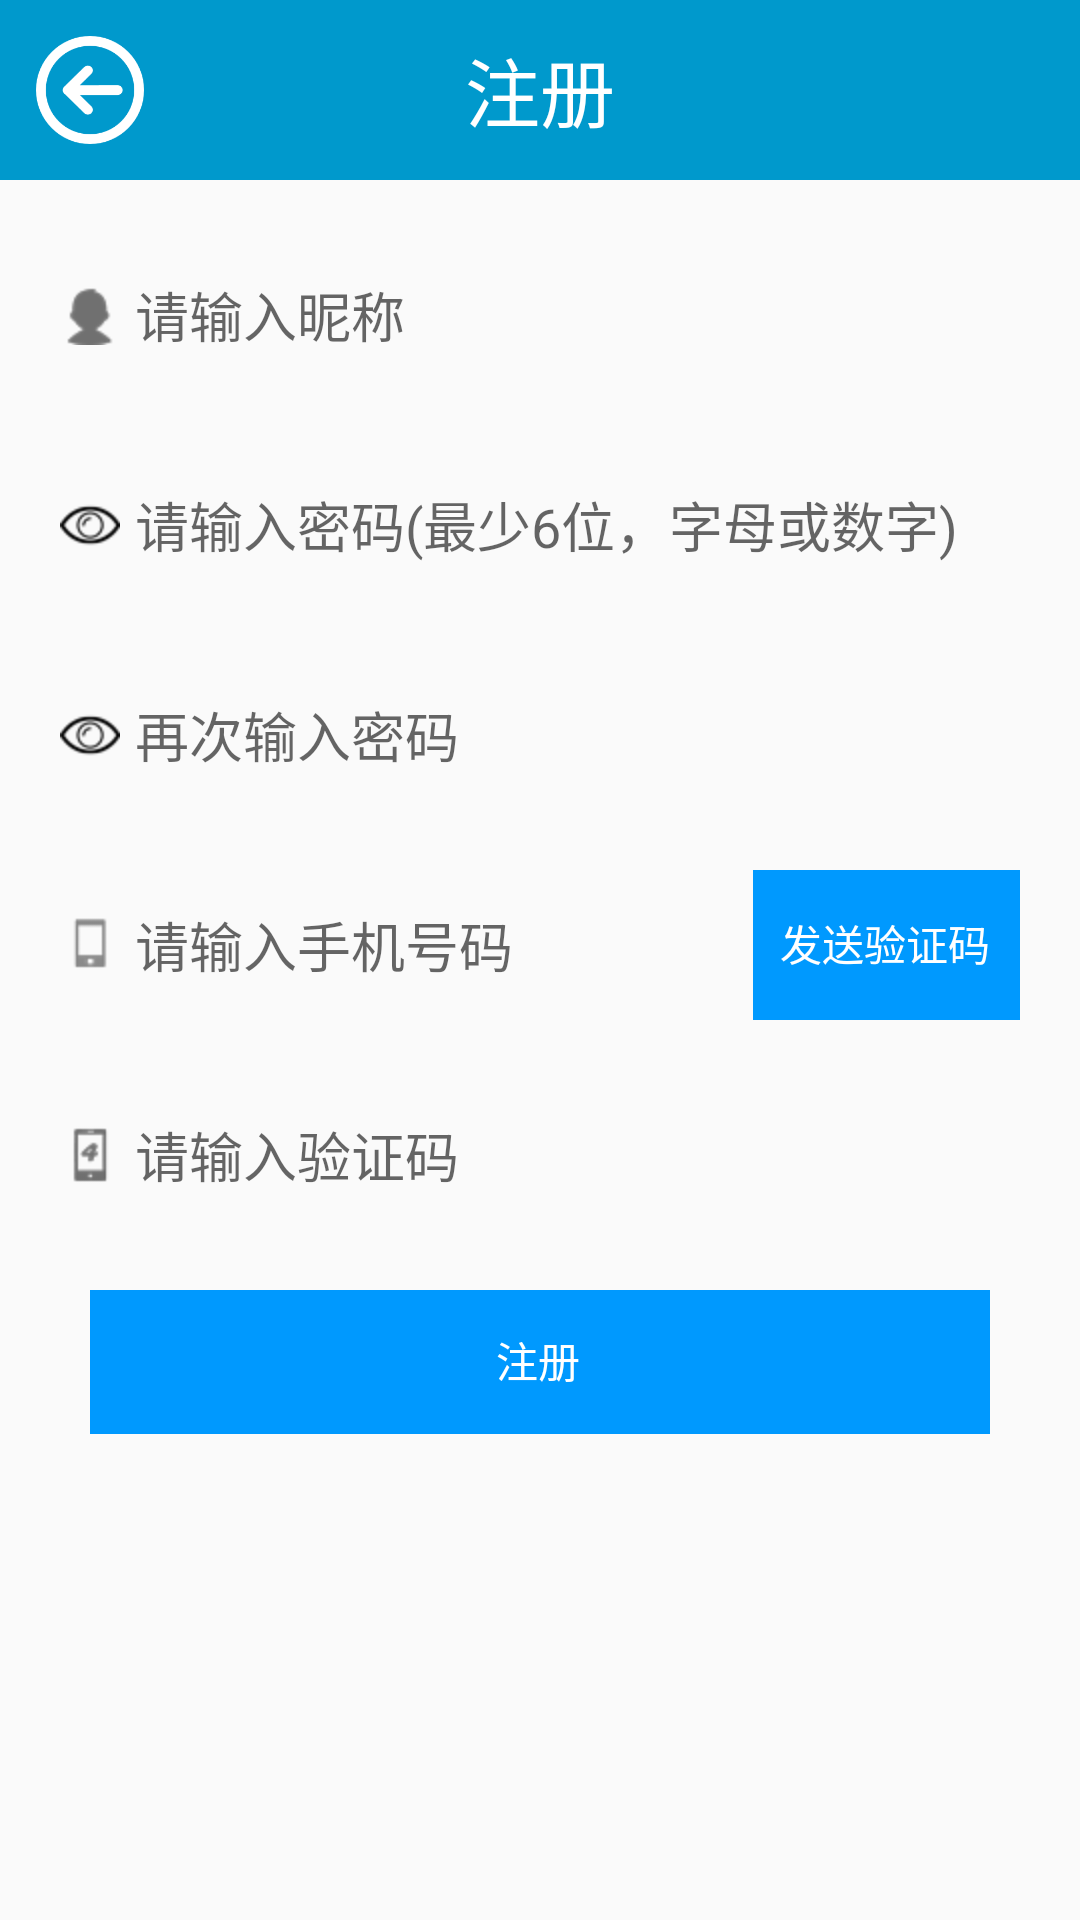

Screen size 1080w x 1920h. Icon name, then its box in pixels as (x1, y1, x2, y2):
back: (36, 36, 144, 144)
